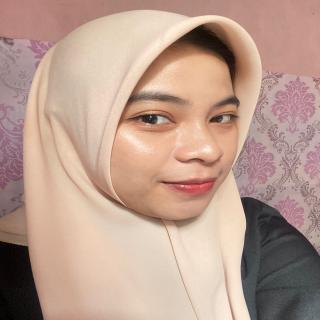Senang: (114, 32, 246, 227)
